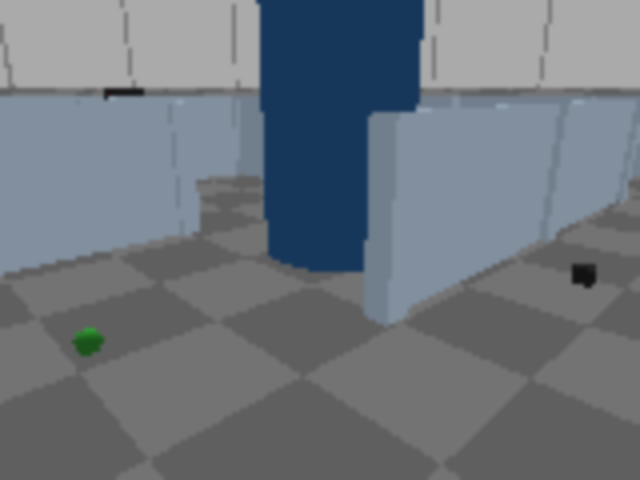puck: (68, 321, 109, 363), (571, 263, 597, 286)
